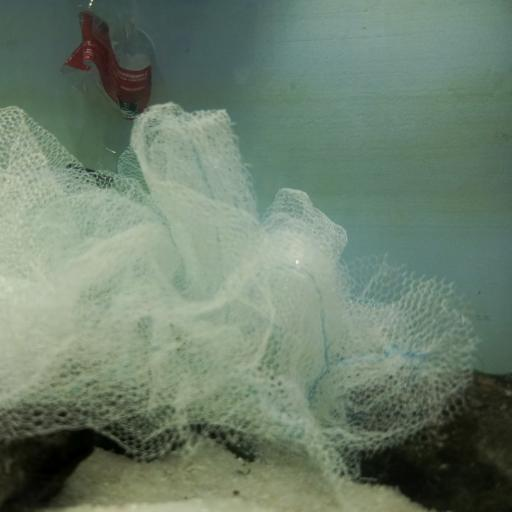net: (0, 103, 480, 504)
plastic_bottle: (61, 0, 156, 163)
